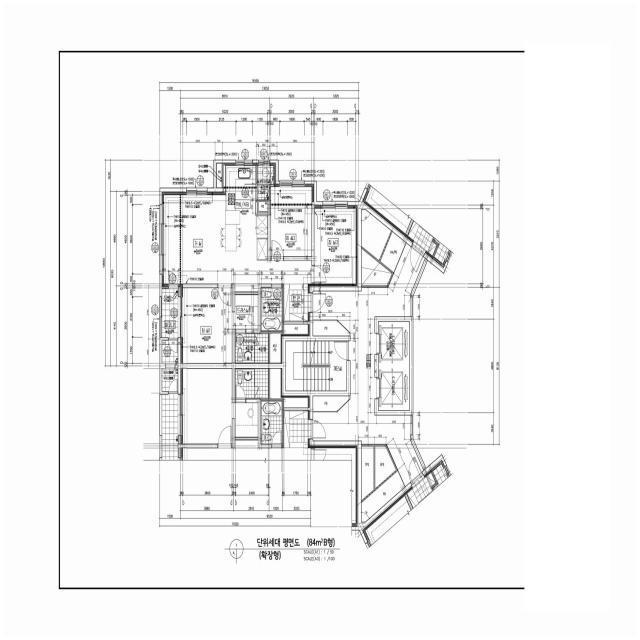space_balconi: (162, 289, 178, 338), (257, 163, 275, 201), (162, 340, 178, 363)
space_bedroom: (180, 288, 232, 364), (315, 206, 357, 286), (270, 184, 314, 256)
space_dressroom: (235, 295, 258, 329)
space_elevator: (378, 365, 409, 410), (378, 322, 409, 365)
space_elevator_hall: (313, 243, 425, 486)
space_front: (284, 284, 311, 321)
space_kitchen: (226, 163, 268, 260)
space_living_room: (162, 192, 312, 292)
space_other: (362, 471, 405, 522), (362, 210, 391, 260), (362, 249, 392, 285), (380, 232, 406, 272), (375, 446, 396, 489), (362, 446, 374, 500), (313, 321, 350, 336), (313, 396, 350, 411), (270, 333, 282, 364), (284, 324, 309, 336), (217, 163, 222, 188), (259, 202, 268, 211)
space_staircase: (286, 341, 347, 391)
space_toilet: (235, 333, 269, 363), (261, 288, 283, 332)
